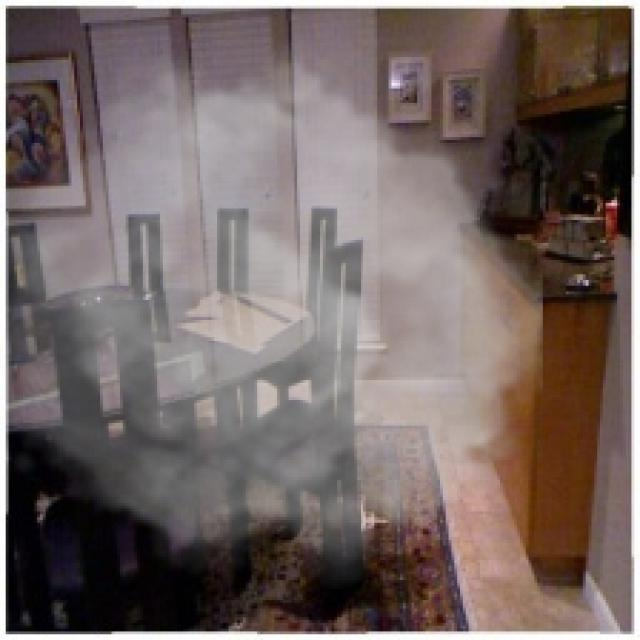Smoke: (6, 37, 543, 589)
